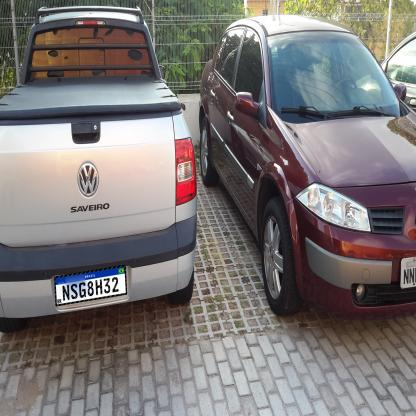PlacaM: (54, 265, 127, 306)
